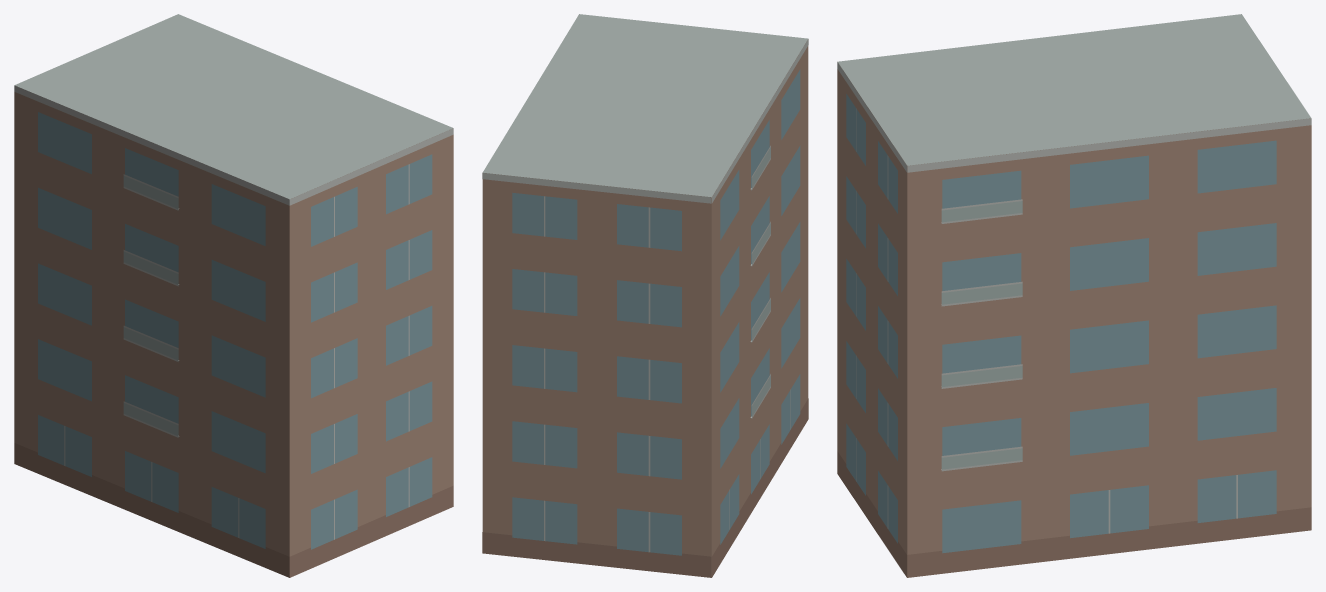
The model's file is survey-upis-32722297.glb.
3 views of the same model, side by side, from view 1: azimuth 30°, elevation 25°; view 2: azimuth 150°, elevation 25°; view 3: azimuth 270°, elevation 25° (orthographic). The views are drawn at different scales.
Visible parts, largest first — view 1: survey-upis-32722297.tmp; view 2: survey-upis-32722297.tmp; view 3: survey-upis-32722297.tmp.
Part boxes in pixels (x1,y1,x2,y2): survey-upis-32722297.tmp: (14, 14, 453, 577); survey-upis-32722297.tmp: (482, 14, 808, 577); survey-upis-32722297.tmp: (837, 14, 1311, 577).
Bounding box in the file's own units: 11.34 × 14.35 × 14.97.
